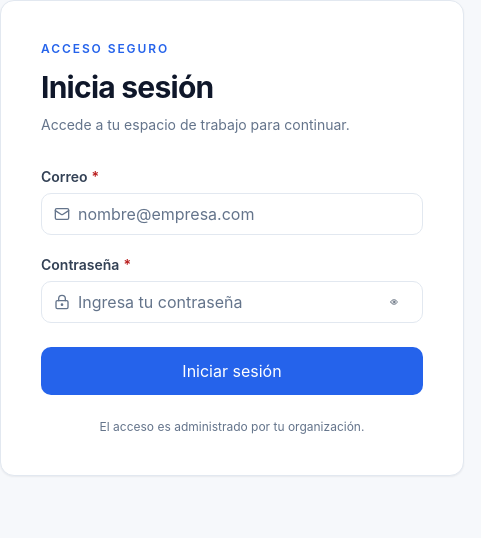
Test: LoginForm › validates required fields and focuses the first invalid control
What coordinates should you click on to do the following:
click the button "Iniciar sesión"
I would click on:
 (232, 370)
Its box is [41,346,423,394].
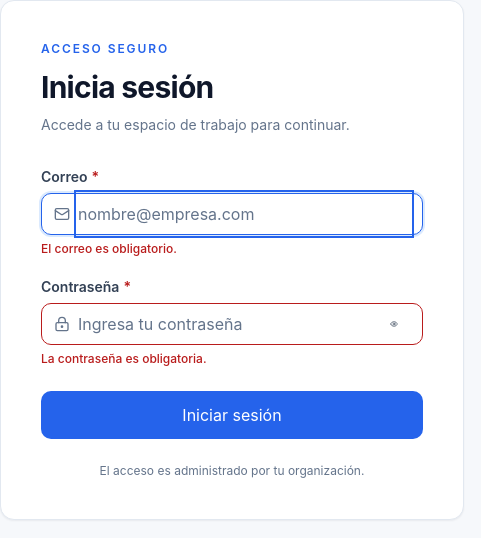
Check: the text "El correo es obligatorio." is shown, box [41,240,177,256]
Check: the text "La contraseña es obligatoria." is shown, box [41,350,206,366]
